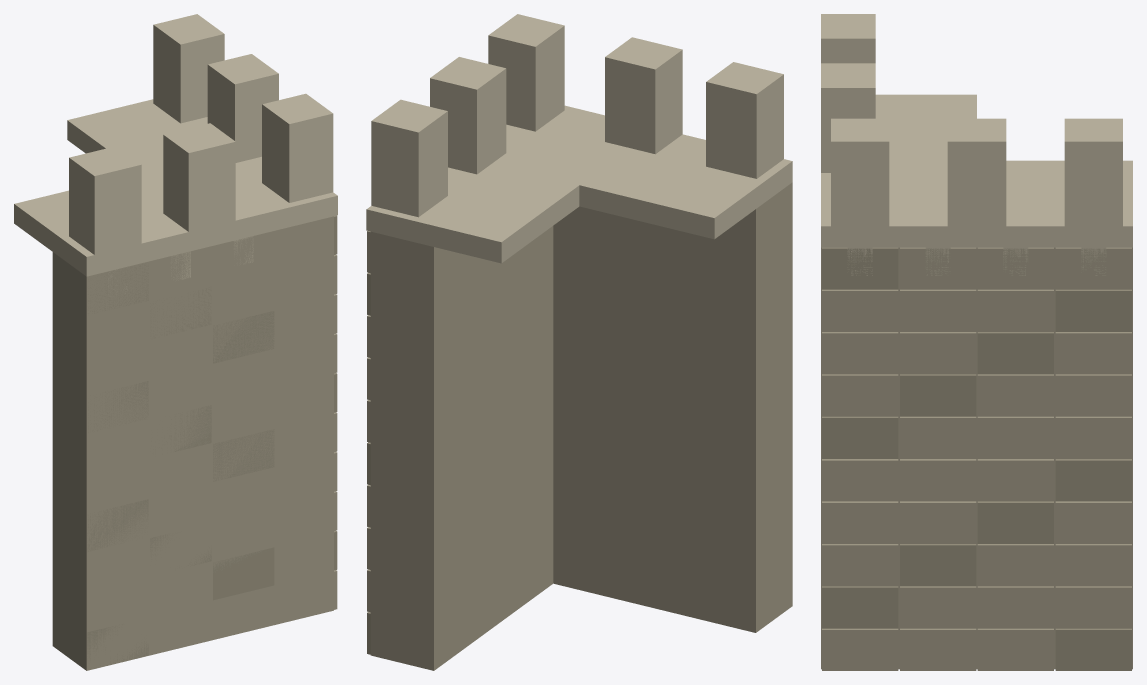
Rendered from siege-wall-corner.glb.
3 renders of one model, left to right at view 1: azimuth 30°, elevation 25°; view 2: azimuth 150°, elevation 25°; view 3: azimuth 270°, elevation 25°, orthographic. The views are drawn at different scales.
Visible parts, largest first — view 1: Mesh_CoreNorth, Mesh_CoreEast, Mesh_EastWalk, Mesh_NorthWalk, Mesh_NorthMerlon1, Mesh_NorthMerlon0, Mesh_EastMerlon2, Mesh_EastMerlon0, Mesh_EastMerlon1, Mesh_NorthAshlar_2_2, Mesh_NorthAshlar_0_2, Mesh_NorthAshlar_1_2 (+26 smaller); view 2: Mesh_CoreNorth, Mesh_CoreEast, Mesh_EastWalk, Mesh_NorthWalk, Mesh_NorthMerlon0, Mesh_NorthMerlon1, Mesh_EastMerlon0, Mesh_EastMerlon2, Mesh_EastMerlon1; view 3: Mesh_EastWalk, Mesh_EastMerlon1, Mesh_EastMerlon0, Mesh_EastMerlon2, Mesh_NorthWalk, Mesh_NorthMerlon0, Mesh_CoreEast, Mesh_EastAshlar_1_0, Mesh_EastAshlar_1_1, Mesh_EastAshlar_1_2, Mesh_EastAshlar_1_3, Mesh_EastAshlar_3_0 (+36 smaller).
Part boxes in pixels (left/top/right/bottom): Mesh_CoreNorth: left=52, top=231, right=274, bottom=670; Mesh_CoreEast: left=275, top=216, right=333, bottom=624; Mesh_EastWalk: left=67, top=99, right=337, bottom=245; Mesh_NorthWalk: left=14, top=175, right=212, bottom=276; Mesh_NorthMerlon1: left=69, top=146, right=141, bottom=254; Mesh_NorthMerlon0: left=163, top=123, right=235, bottom=231; Mesh_EastMerlon2: left=262, top=93, right=333, bottom=202; Mesh_EastMerlon0: left=153, top=14, right=224, bottom=123; Mesh_EastMerlon1: left=207, top=54, right=278, bottom=162; Mesh_NorthAshlar_2_2: left=213, top=508, right=274, bottom=560; Mesh_NorthAshlar_0_2: left=213, top=587, right=274, bottom=639; Mesh_NorthAshlar_1_2: left=213, top=547, right=274, bottom=600; Mesh_CoreNorth: left=553, top=182, right=792, bottom=632; Mesh_CoreEast: left=370, top=226, right=553, bottom=670; Mesh_EastWalk: left=366, top=105, right=629, bottom=263; Mesh_NorthWalk: left=579, top=134, right=792, bottom=239; Mesh_NorthMerlon0: left=605, top=37, right=682, bottom=154; Mesh_NorthMerlon1: left=706, top=62, right=783, bottom=178; Mesh_EastMerlon0: left=371, top=99, right=447, bottom=217; Mesh_EastMerlon2: left=488, top=14, right=564, bottom=131; Mesh_EastMerlon1: left=430, top=57, right=506, bottom=174; Mesh_EastWalk: left=821, top=160, right=1132, bottom=247; Mesh_EastMerlon1: left=947, top=118, right=1006, bottom=226; Mesh_EastMerlon0: left=1064, top=118, right=1122, bottom=226; Mesh_EastMerlon2: left=831, top=118, right=889, bottom=226; Mesh_NorthWalk: left=875, top=94, right=976, bottom=160; Mesh_NorthMerlon0: left=821, top=63, right=875, bottom=172; Mesh_CoreEast: left=821, top=247, right=1132, bottom=669; Mesh_EastAshlar_1_0: left=1055, top=586, right=1131, bottom=628; Mesh_EastAshlar_1_1: left=977, top=586, right=1053, bottom=628; Mesh_EastAshlar_1_2: left=900, top=586, right=976, bottom=628; Mesh_EastAshlar_1_3: left=822, top=586, right=898, bottom=628; Mesh_EastAshlar_3_0: left=1055, top=501, right=1131, bottom=543.
Size of the model in its own units: 4 by 7.5 by 4.
